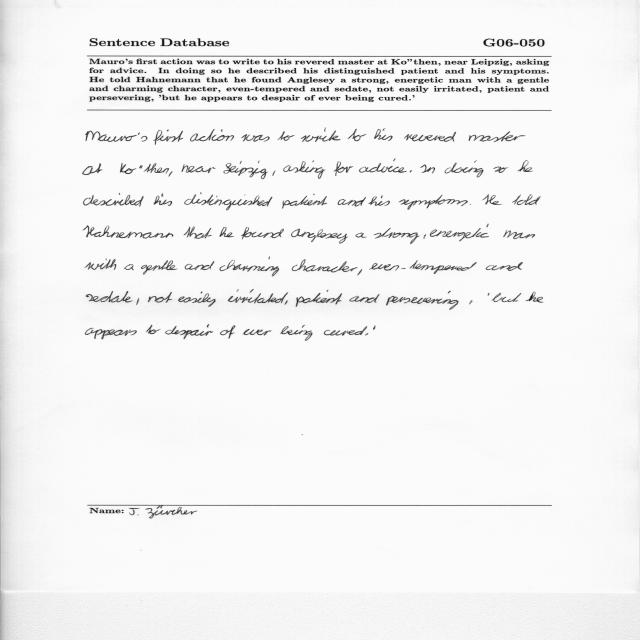word: (369, 260, 477, 274), (185, 193, 273, 210), (386, 291, 458, 310), (83, 226, 174, 239), (220, 257, 279, 276), (399, 195, 468, 210), (430, 224, 489, 241), (292, 259, 358, 273), (291, 229, 348, 244), (84, 193, 144, 207), (228, 290, 288, 304), (283, 160, 326, 179), (224, 161, 268, 179), (296, 290, 342, 307), (374, 228, 420, 244), (165, 324, 213, 339), (86, 131, 148, 142), (282, 194, 327, 209), (359, 159, 407, 173), (445, 161, 483, 178), (469, 131, 526, 142), (178, 291, 216, 307), (85, 328, 137, 339), (301, 128, 341, 142), (141, 260, 177, 275), (120, 163, 169, 174), (190, 129, 234, 141), (404, 132, 456, 142), (86, 291, 133, 302), (241, 227, 284, 239), (280, 325, 312, 341), (153, 130, 183, 145), (324, 326, 367, 336), (183, 226, 212, 239), (85, 258, 116, 270), (486, 262, 523, 271), (182, 164, 216, 173), (512, 195, 541, 205), (503, 230, 535, 239), (350, 294, 380, 303), (334, 162, 353, 176), (148, 292, 172, 303), (185, 261, 214, 270), (492, 293, 521, 302), (338, 197, 366, 206), (374, 128, 393, 141), (368, 195, 390, 206), (347, 129, 367, 141), (83, 163, 103, 175), (154, 193, 172, 206), (241, 134, 270, 142), (220, 325, 235, 339), (483, 194, 502, 205), (526, 292, 544, 303), (518, 160, 533, 172), (243, 329, 272, 335), (278, 131, 295, 141), (219, 227, 234, 237), (420, 165, 435, 174), (146, 325, 160, 334), (494, 167, 509, 173), (124, 264, 134, 270), (356, 233, 367, 238), (358, 270, 363, 276), (136, 298, 139, 305), (272, 171, 276, 176), (469, 300, 473, 304), (169, 172, 172, 177), (424, 234, 427, 239), (285, 300, 288, 305), (373, 326, 376, 330), (488, 293, 490, 296), (365, 334, 368, 336), (410, 170, 412, 172), (470, 204, 471, 204)
